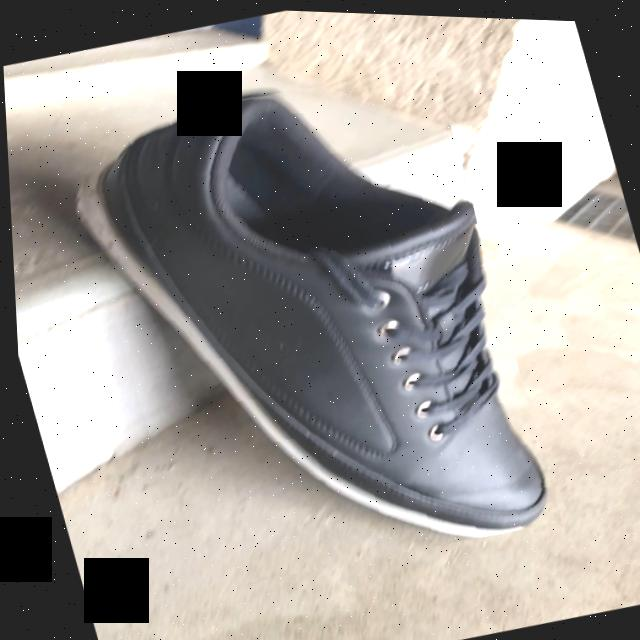shoe: (78, 93, 541, 536)
